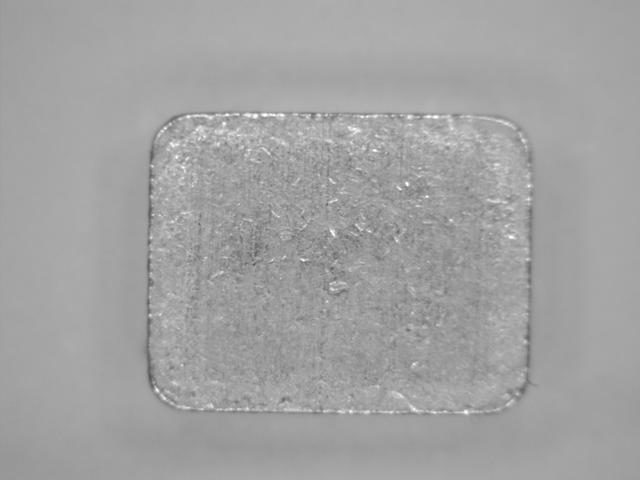ok: (146, 108, 536, 419)
